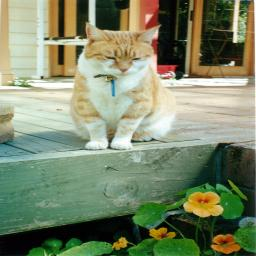catnose: (117, 66, 132, 73)
